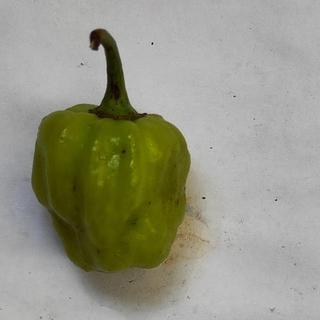Fly-bites: (116, 144, 134, 162), (70, 180, 81, 195)
